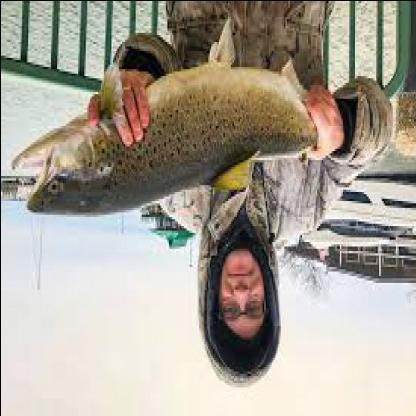fish: (14, 22, 370, 222)
